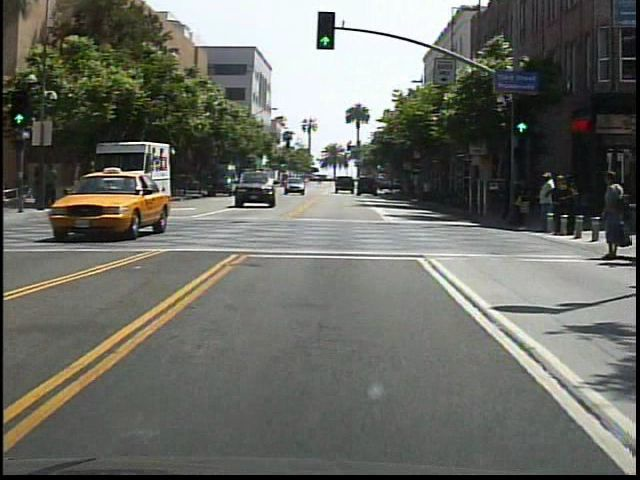person: (595, 170, 630, 260), (535, 166, 555, 235), (42, 161, 63, 211), (34, 166, 46, 211)
